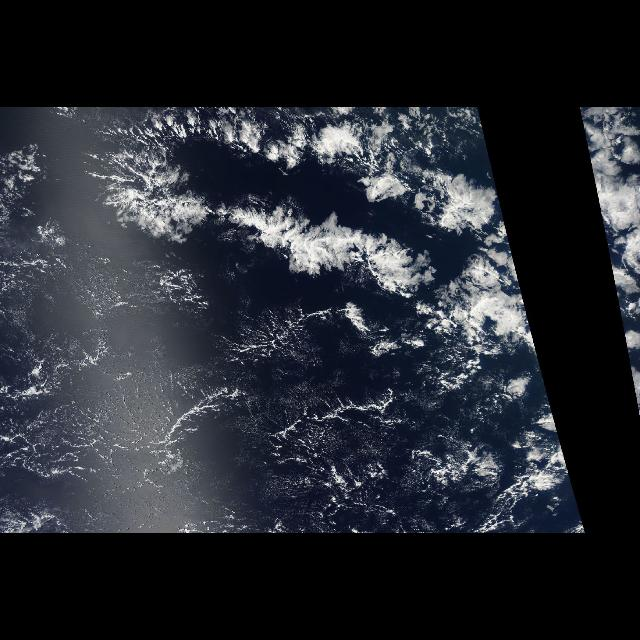Fish: (56, 153, 472, 467)
Gravel: (15, 372, 403, 496)
Sugar: (9, 310, 327, 498)
